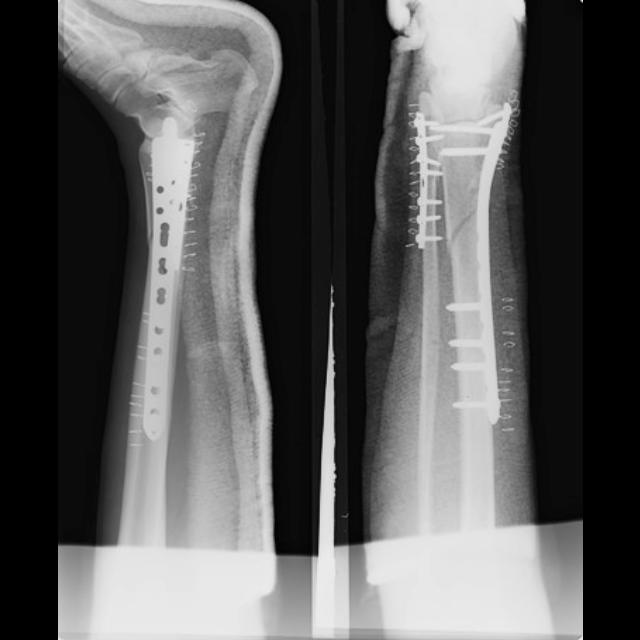Fracture: (443, 204, 478, 258), (142, 226, 153, 255), (428, 174, 441, 185)
